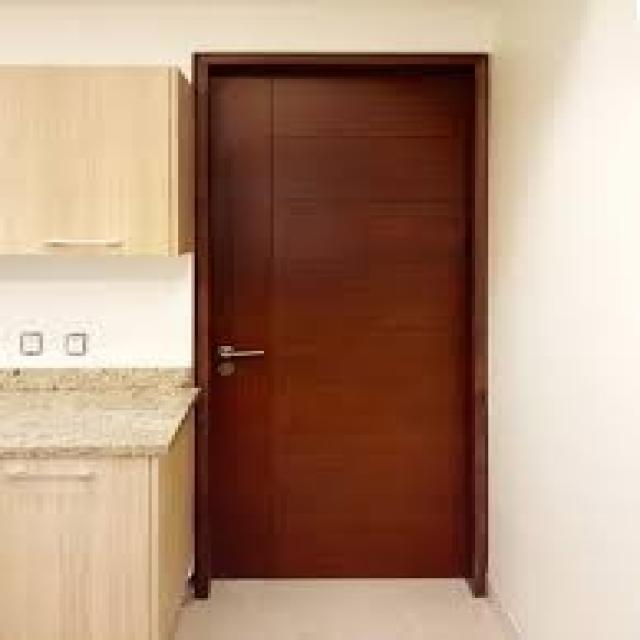door: (192, 52, 488, 588)
